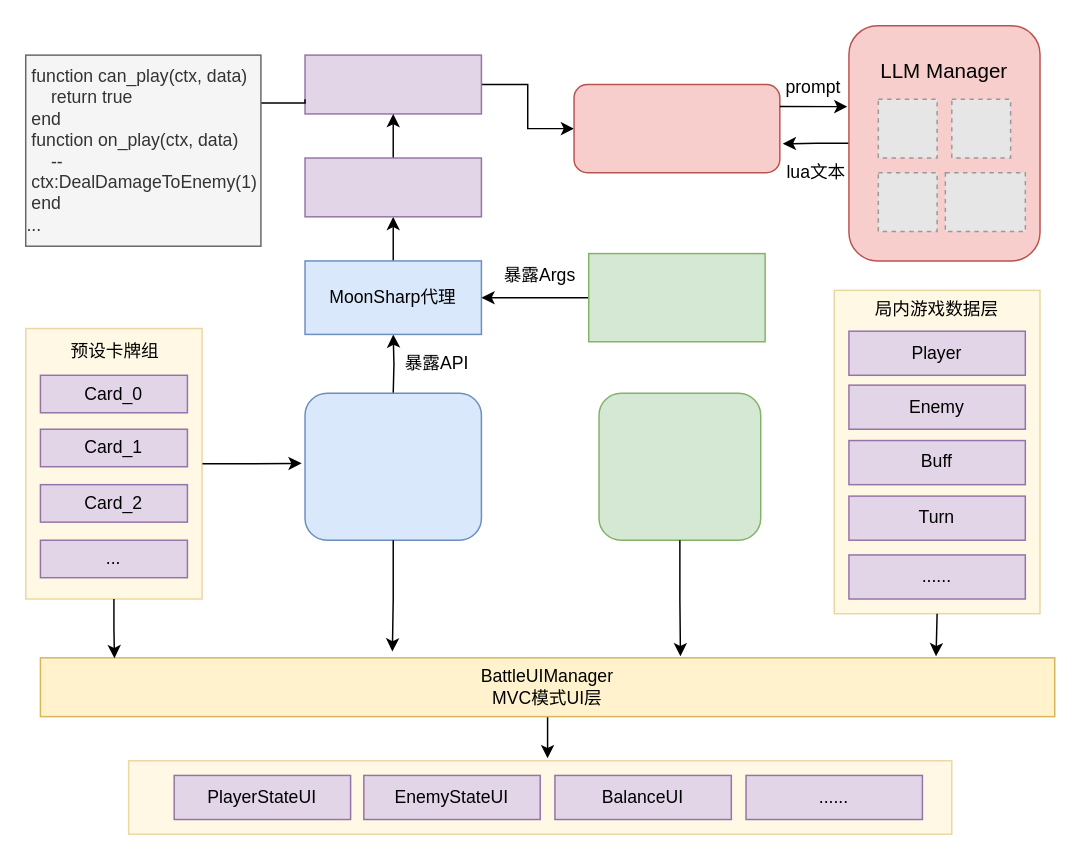
Image size: 1080x860. Some labels were removed from this diagram. Grey dashed boxes stand in for pictures. The centre of each missing label's shape, as x and y in pixels:
"BattleContext API桥接层" goes at point 392,466.
"BattleManager 逻辑管理层" goes at point 679,466.
"card.lua 动态生成自定义卡牌" goes at point 392,84.
"CardGenerationService 卡牌自定义生成代理层" goes at point 676,128.
"EventSystem" goes at point 676,297.
"Lua_Card.cs" goes at point 392,187.
